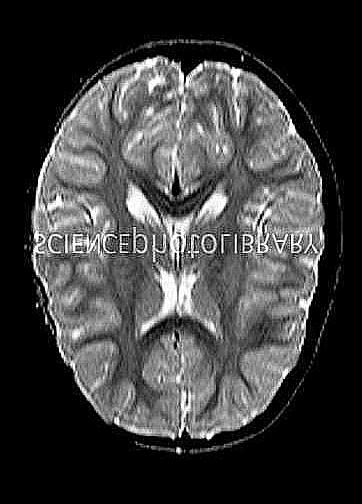Normal_Brain: (1, 1, 362, 504)
